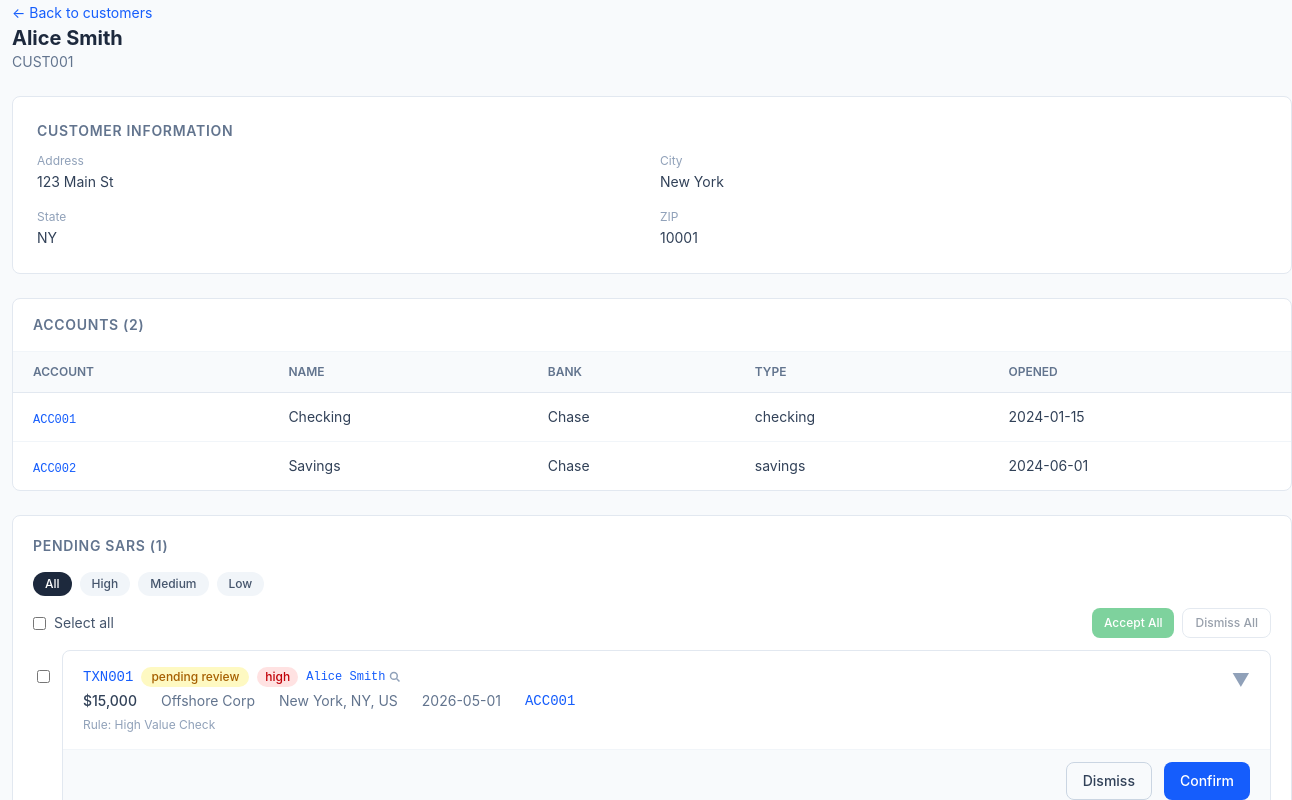
Scenario: CustomerDetailPage › toggles select all for SARs
The image size is (1292, 800).
Expected: the text "Select all" is shown, [33,613,114,633]
Step 1. Click the checkbox labelled "Select all" → (40, 623), box [33,616,46,630]
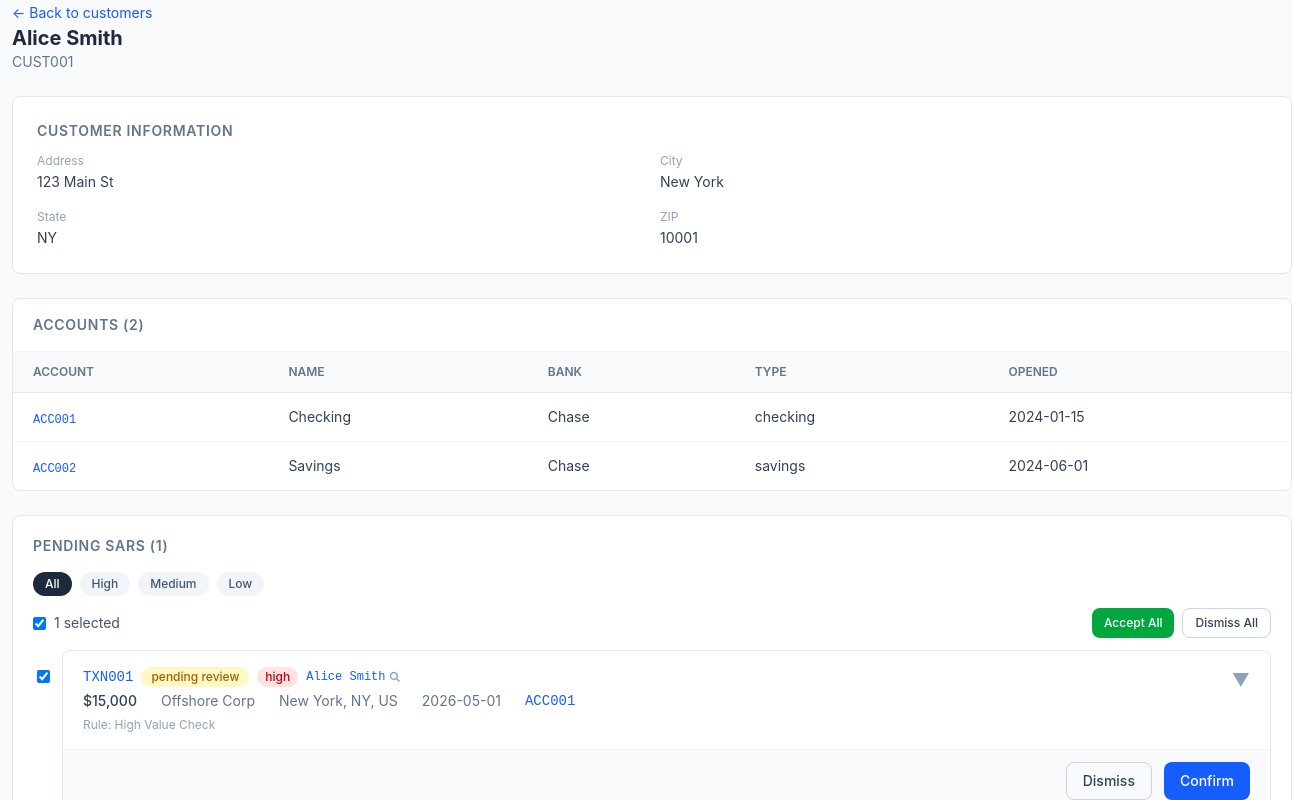
Now the text "1 selected" is shown, box [33,613,120,633]
Step 2. Click the checkbox labelled "1 selected" → (40, 623), box [33,616,46,630]
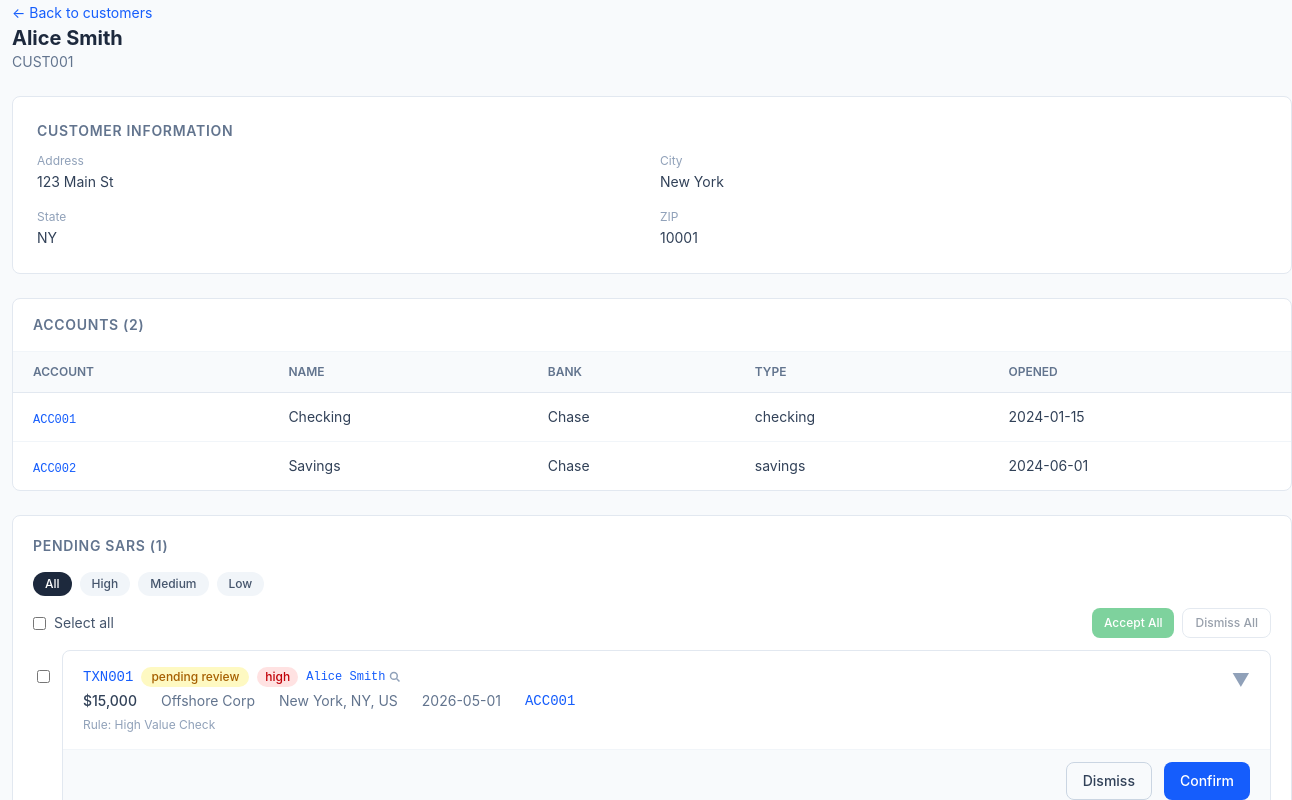
Now the text "Select all" is shown, box [33,613,114,633]
